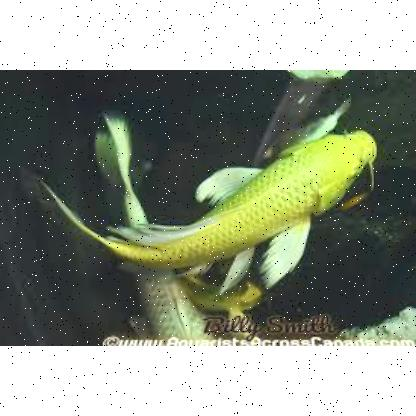ikan-mas: (34, 124, 382, 270)
